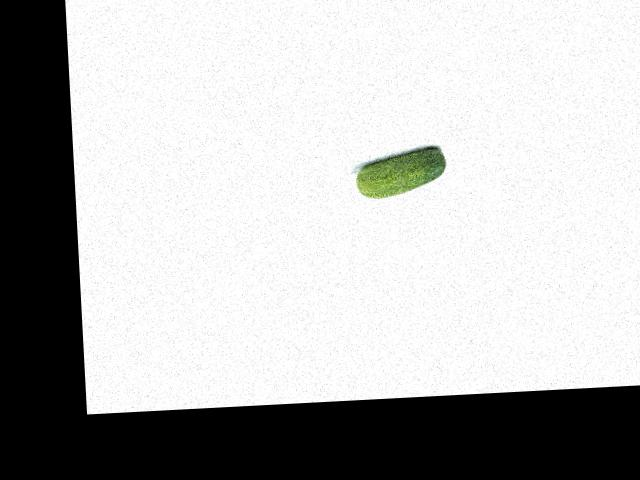cucumber: (355, 146, 447, 199)
